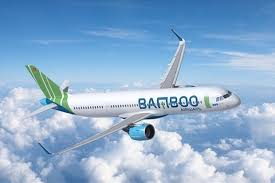maybay_dansu: (25, 38, 240, 157)
